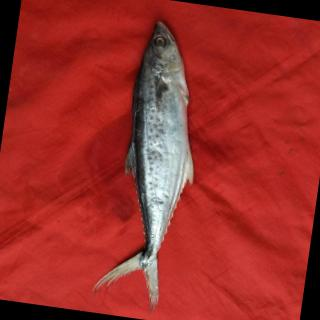Ikan: (89, 12, 242, 317)
